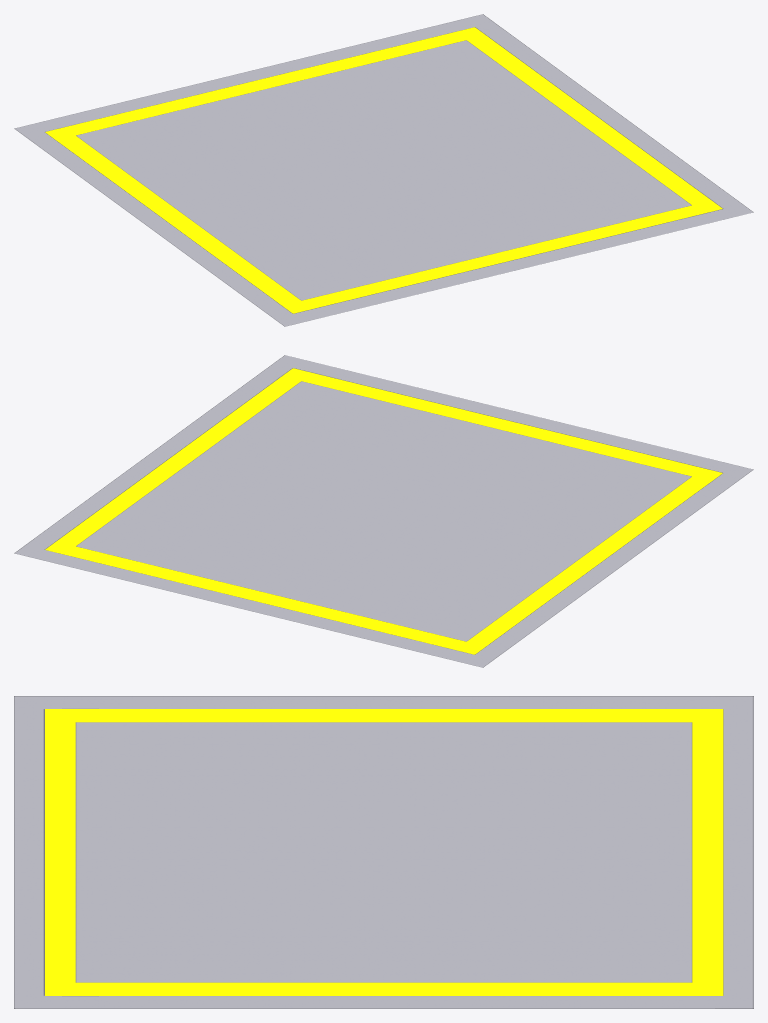
File: Floor_Normal_05.FBX
The picture shows the model from 3 angles, top to bottom: view 1: azimuth 30°, elevation 25°; view 2: azimuth 150°, elevation 25°; view 3: azimuth 270°, elevation 25°; orthographic projection. The views are drawn at different scales.
Visible parts, largest first — view 1: Floor_Normal_05; view 2: Floor_Normal_05; view 3: Floor_Normal_05.
Part boxes in pixels (box(x1,y1,x2,y2)): Floor_Normal_05: box(14, 14, 753, 326); Floor_Normal_05: box(14, 355, 753, 667); Floor_Normal_05: box(14, 696, 753, 1008).
Size of the model in its own units: 12 by 2.62e-07 by 12.
